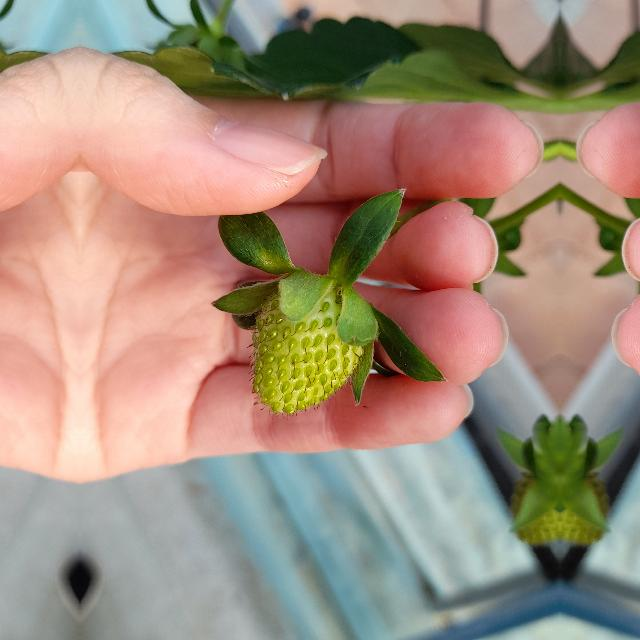Health_25: (251, 282, 363, 414)
